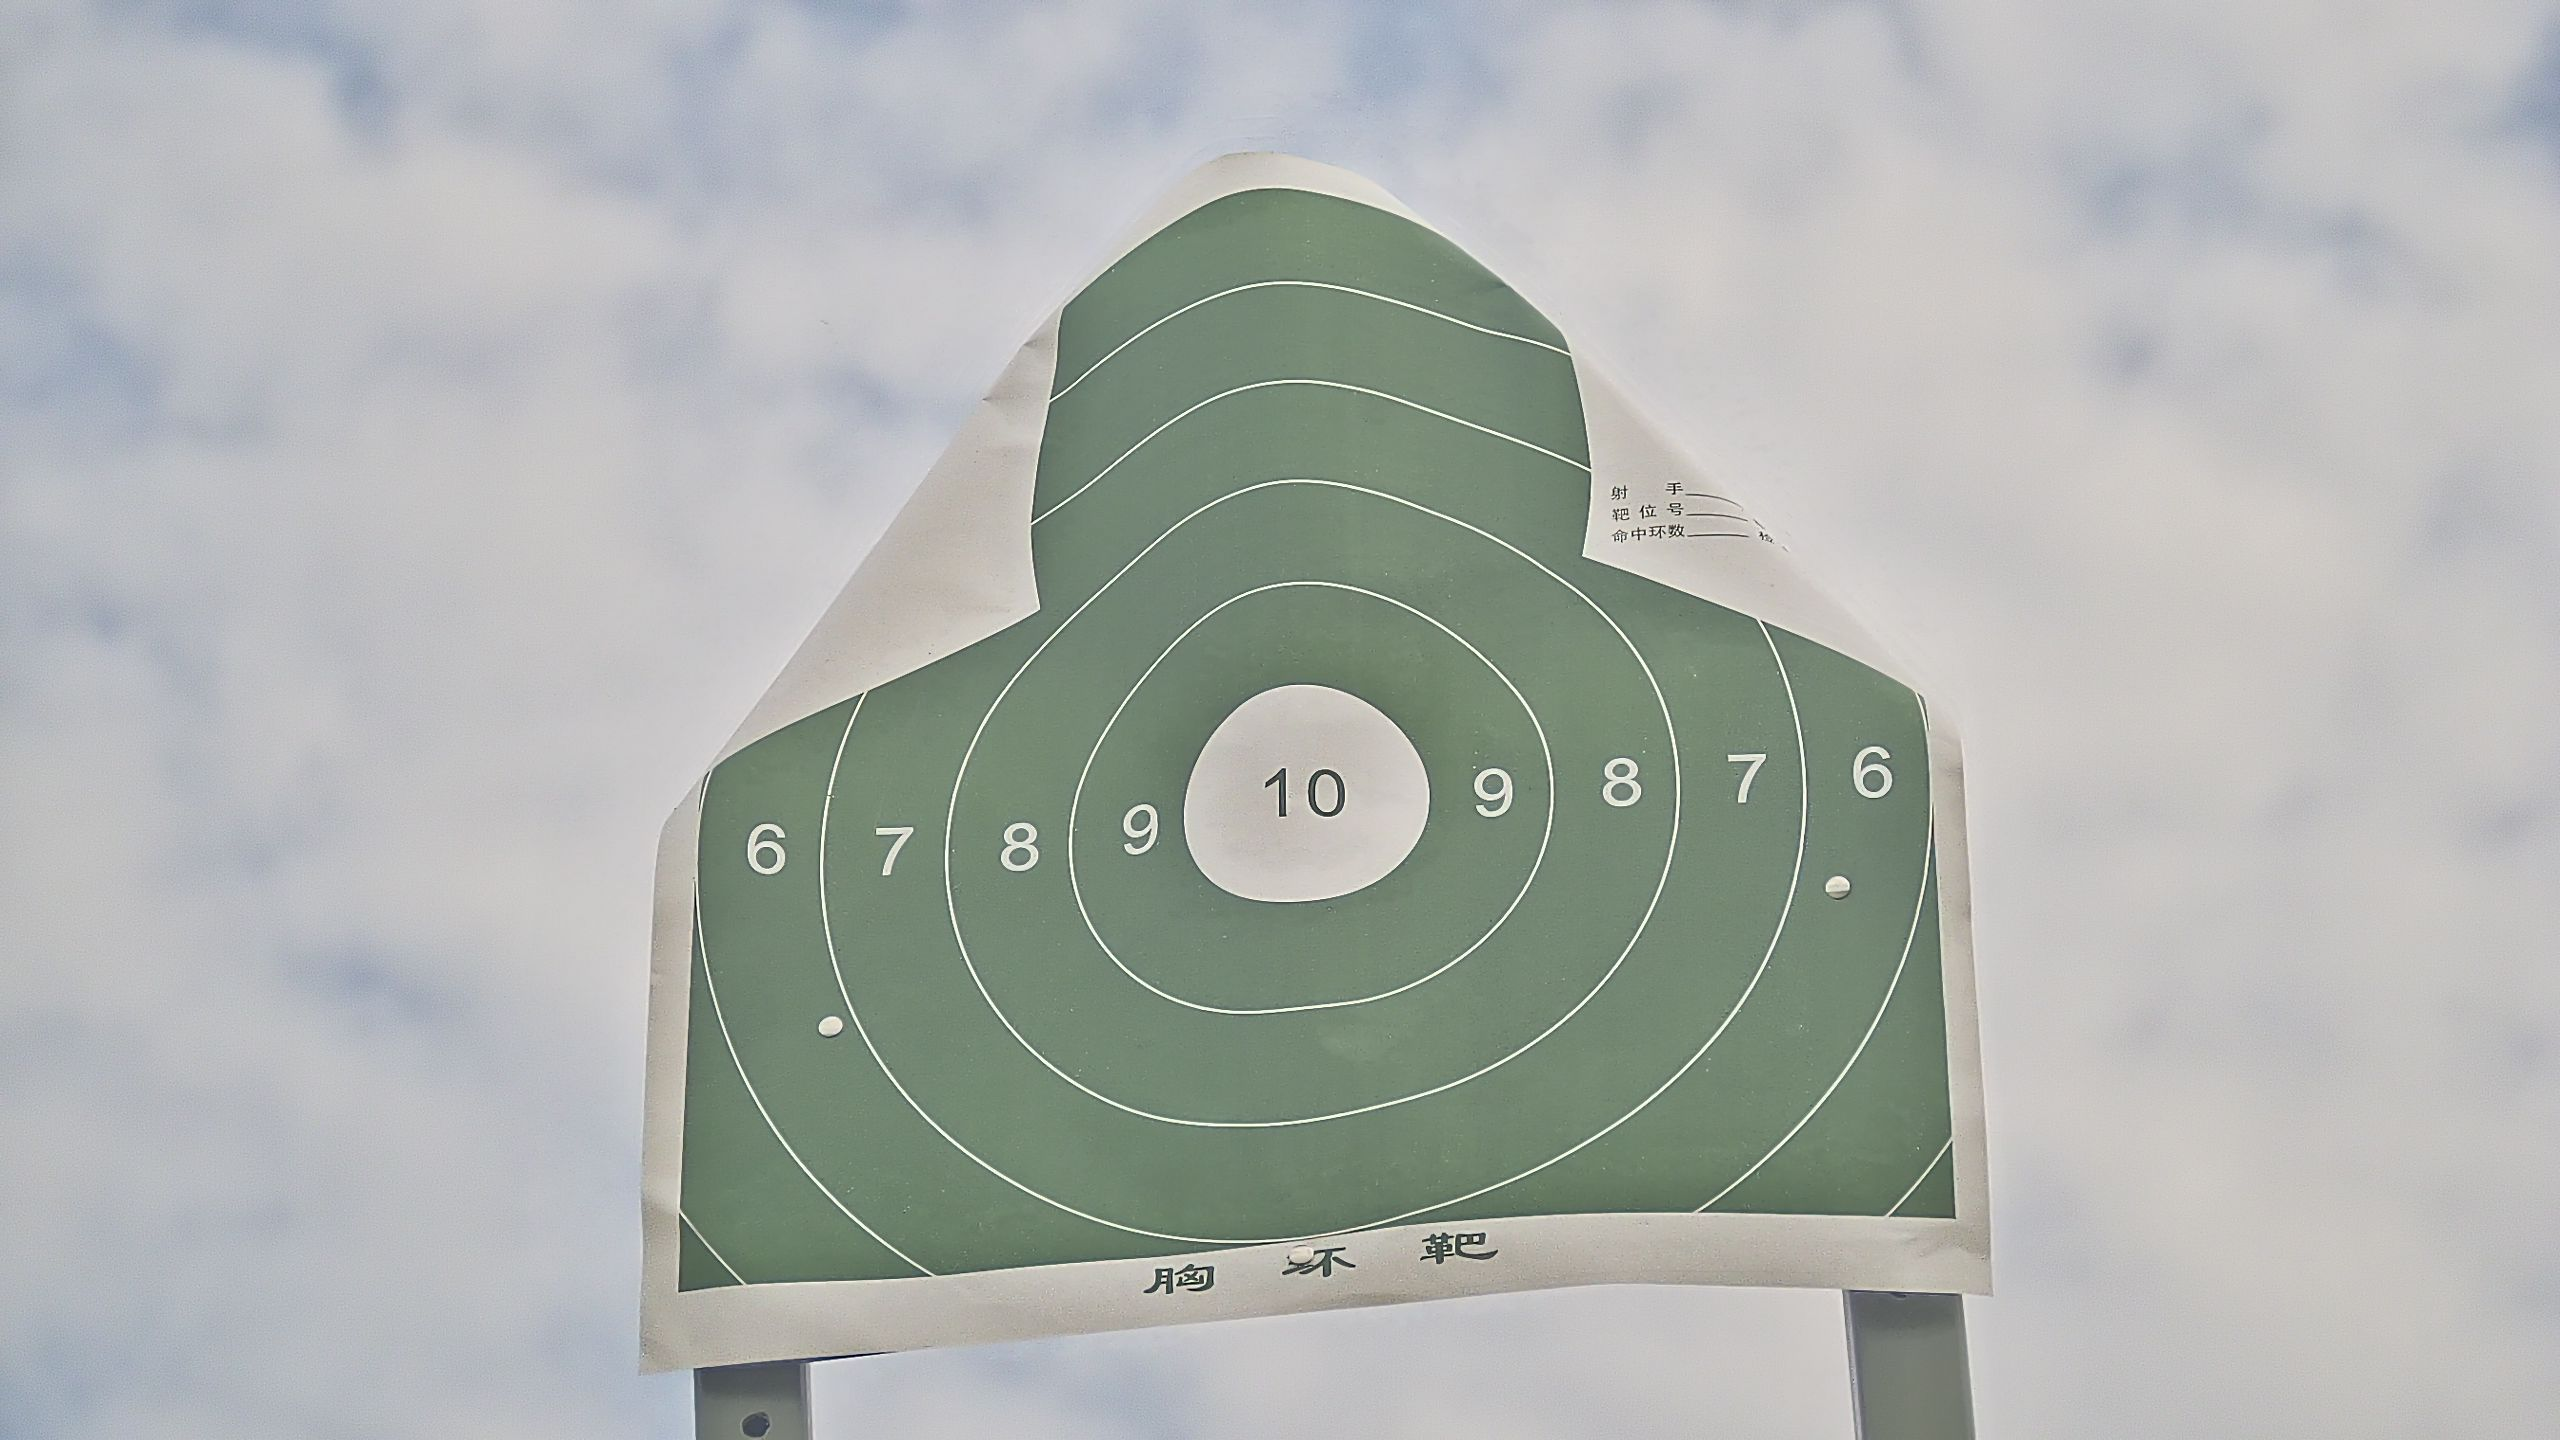kernel: (1296, 796, 1298, 800)
target: (673, 190, 1959, 1299)
ten: (1182, 686, 1429, 907)
